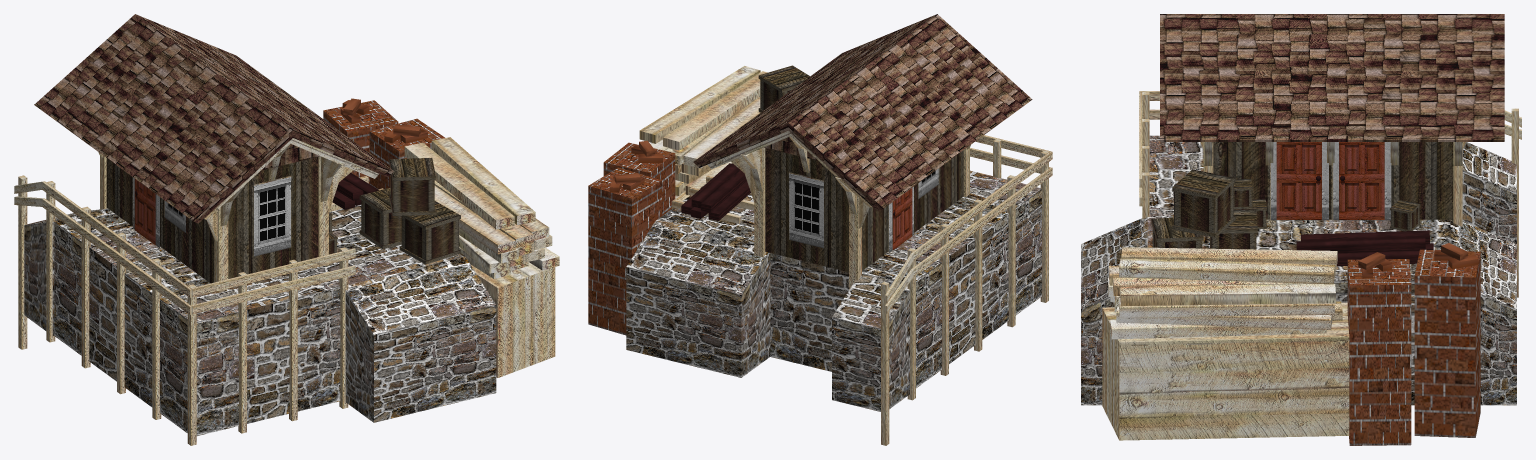
Rendered from brit_storehouse.dae.
The picture shows the model from 3 angles, left to right: view 1: azimuth 30°, elevation 25°; view 2: azimuth 150°, elevation 25°; view 3: azimuth 270°, elevation 25°; orthographic projection. The views are drawn at different scales.
Visible parts, largest first — view 1: BRITStorehouse; view 2: BRITStorehouse; view 3: BRITStorehouse.
Boxes of the visible parts, x1,y1,x2,y2 form: BRITStorehouse: (14,14,559,445); BRITStorehouse: (588,14,1052,445); BRITStorehouse: (1081,14,1521,445).
Bounding box in the file's own units: 20.48 × 20.05 × 17.03.
